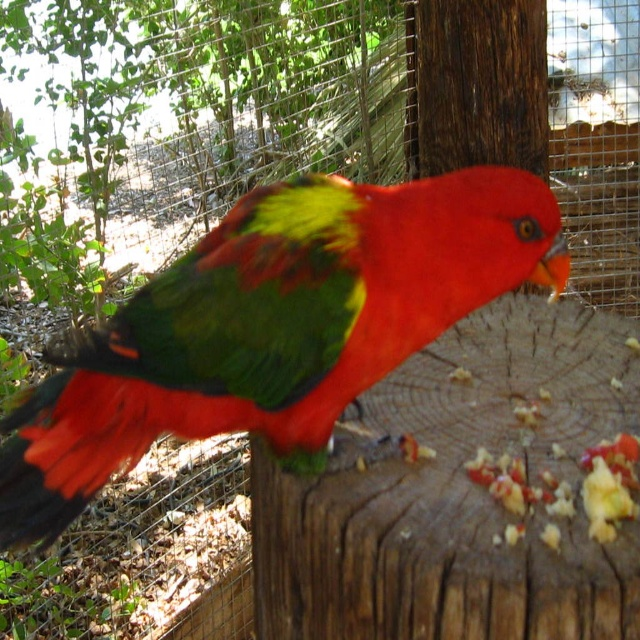Parrot: (0, 162, 573, 559)
